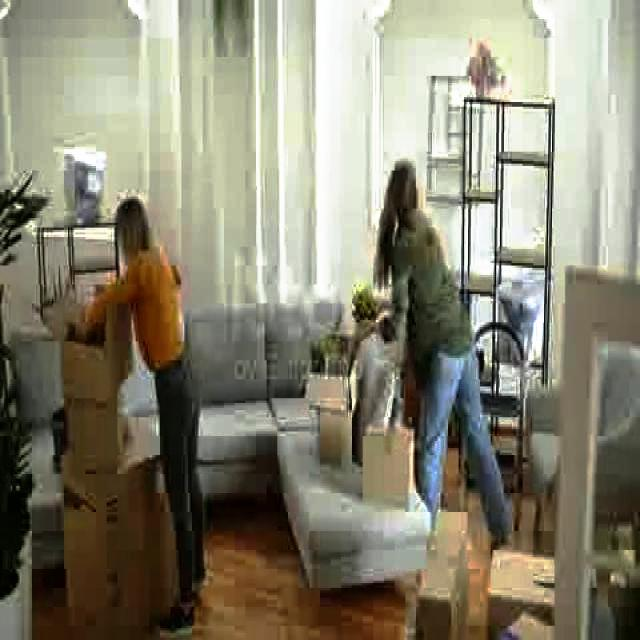Box: (66, 469, 162, 628), (420, 502, 472, 628), (486, 542, 566, 612), (308, 368, 356, 458), (68, 341, 135, 403), (366, 422, 418, 500), (73, 400, 120, 464)
